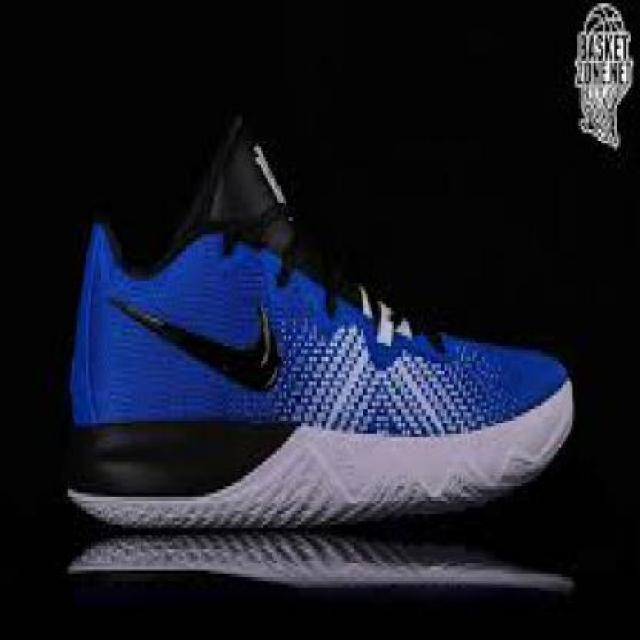Nike: (100, 279, 277, 392)
